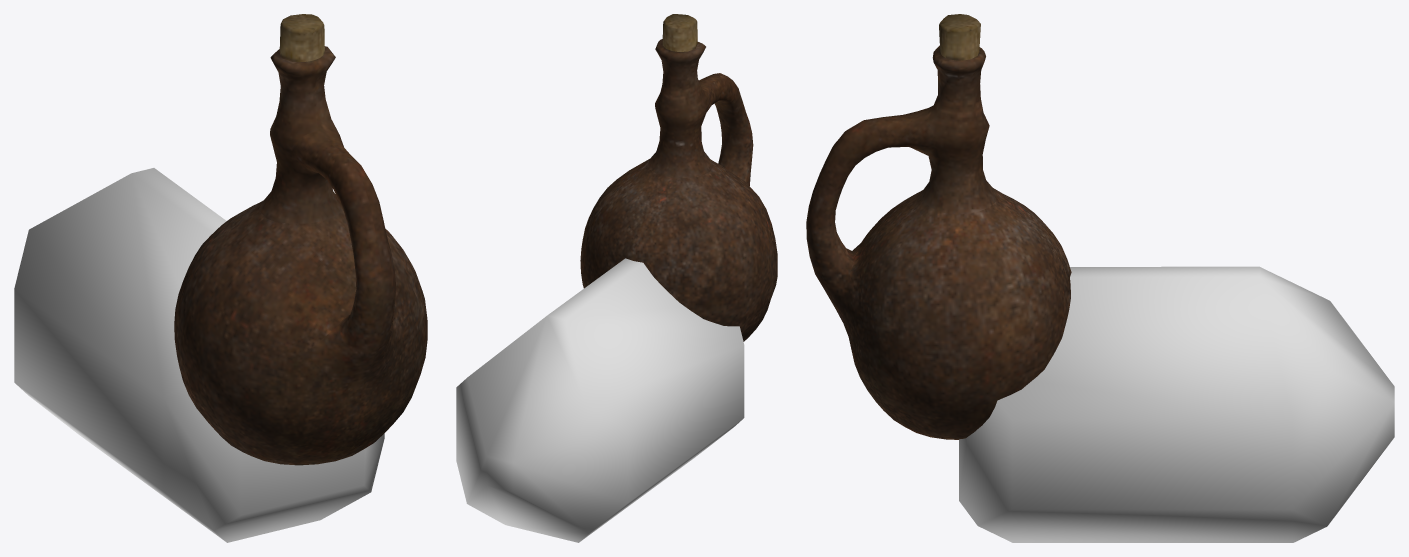
Rendered from SM_Ceramics_E.fbx.
3 renders of one model, left to right at view 1: azimuth 30°, elevation 25°; view 2: azimuth 150°, elevation 25°; view 3: azimuth 270°, elevation 25°, orthographic. The views are drawn at different scales.
Parts seen in each view (by area): view 1: SM_Ceramics_E, SM_Ceramics_E_ConvexHulls; view 2: SM_Ceramics_E_ConvexHulls, SM_Ceramics_E; view 3: SM_Ceramics_E_ConvexHulls, SM_Ceramics_E.
Boxes of the visible parts, bbox=[...] form: SM_Ceramics_E: bbox=[174, 14, 427, 465]; SM_Ceramics_E_ConvexHulls: bbox=[14, 168, 384, 542]; SM_Ceramics_E_ConvexHulls: bbox=[456, 258, 744, 542]; SM_Ceramics_E: bbox=[580, 14, 777, 341]; SM_Ceramics_E_ConvexHulls: bbox=[959, 266, 1394, 542]; SM_Ceramics_E: bbox=[806, 14, 1071, 439].
Size of the model in its own units: 0.1964 by 0.4504 by 0.4805.
